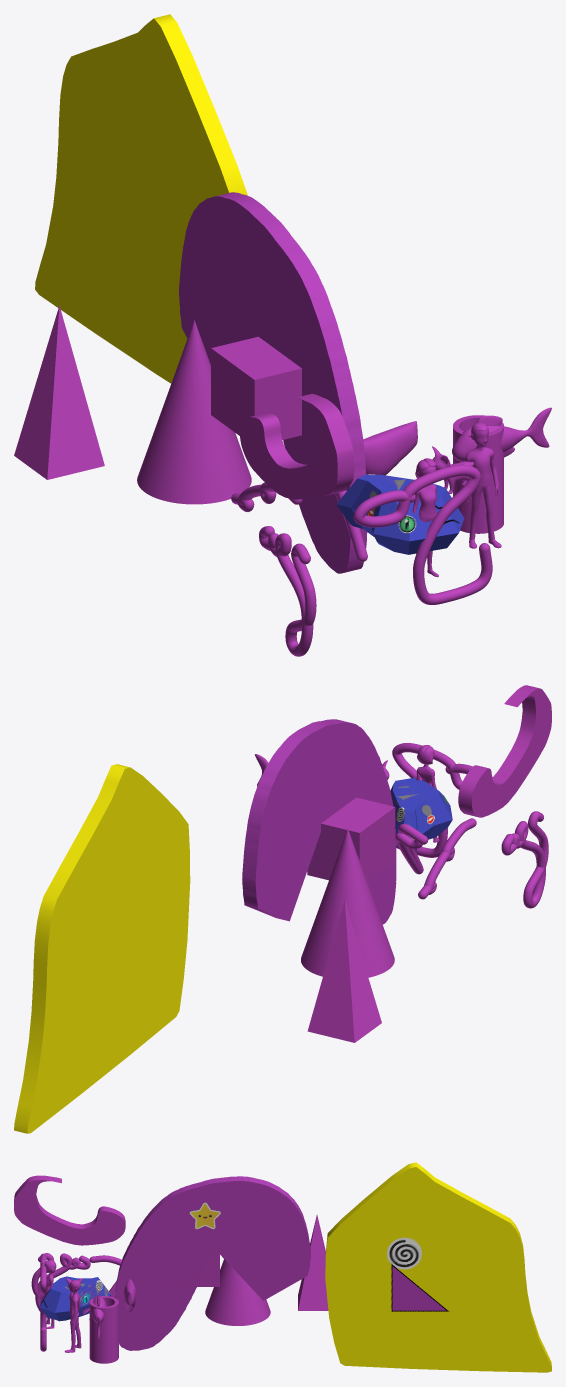
The model's file is naturePack_024.fbx.
3 renders of one model, top to bottom at view 1: azimuth 30°, elevation 25°; view 2: azimuth 150°, elevation 25°; view 3: azimuth 270°, elevation 25°, orthographic. The views are drawn at different scales.
Parts seen in each view (by area): view 1: root (×11), node_id57 (×3), node_id3; view 2: root (×7), node_id57 (×4), node_id3; view 3: root (×11), node_id3, node_id57 (×2).
Boxes of the visible parts, box(x1,y1,x2,y2) form: root (×11): box(14, 14, 551, 577); node_id57 (×3): box(231, 464, 492, 656); node_id3: box(336, 474, 464, 554); root (×7): box(14, 685, 551, 1133); node_id57 (×4): box(392, 743, 548, 908); node_id3: box(390, 778, 452, 851); root (×11): box(14, 1162, 551, 1372); node_id3: box(39, 1276, 110, 1321); node_id57 (×2): box(31, 1253, 90, 1351).
Bounding box in the file's own units: 2 × 2.09 × 4.96.
17 materials, 3 textured.
